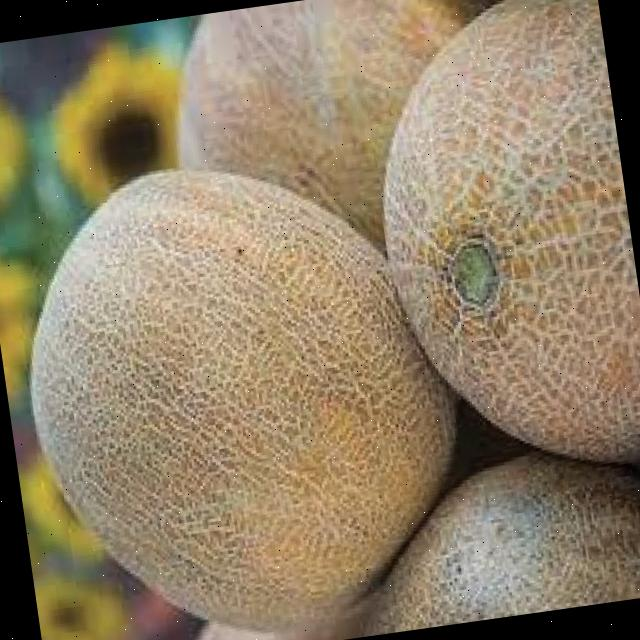Hami Melon: (1, 130, 483, 640), (354, 0, 640, 487)
